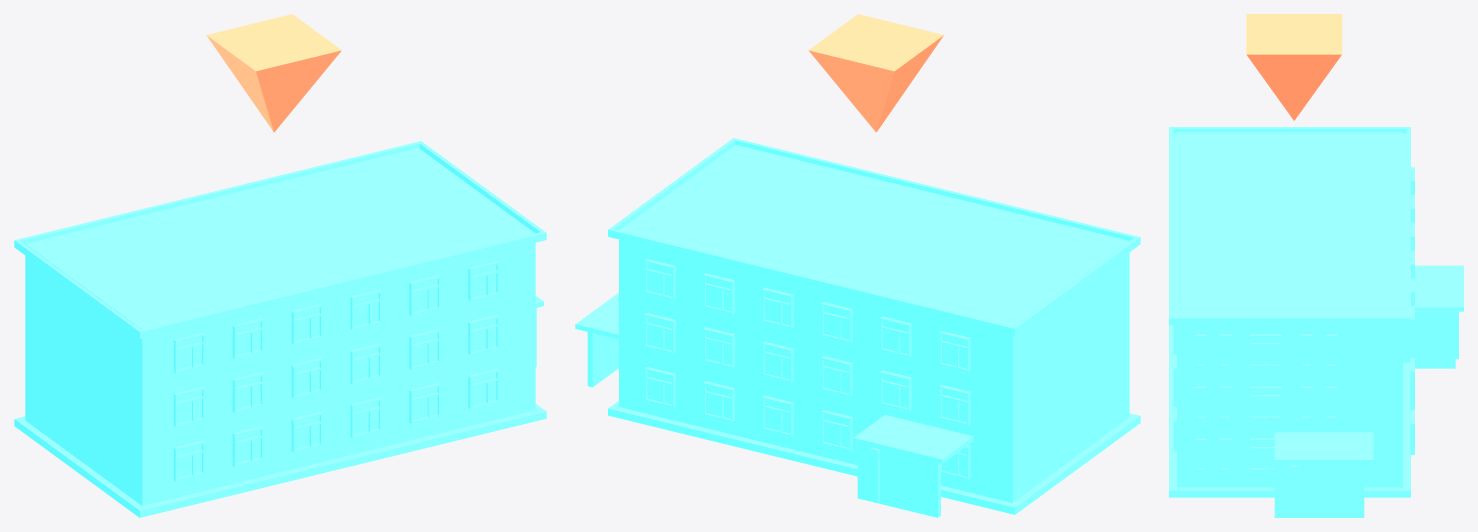
The model's file is build12.gltf.
3 views of the same model, side by side, from view 1: azimuth 30°, elevation 25°; view 2: azimuth 150°, elevation 25°; view 3: azimuth 270°, elevation 25° (orthographic). The views are drawn at different scales.
Parts seen in each view (by area): view 1: subject, fire-mark; view 2: subject, fire-mark; view 3: subject, fire-mark.
Boxes of the visible parts, bbox=[...] form: subject: bbox=[14, 141, 546, 517]; fire-mark: bbox=[206, 14, 341, 132]; subject: bbox=[575, 138, 1140, 517]; fire-mark: bbox=[808, 14, 943, 132]; subject: bbox=[1169, 127, 1463, 517]; fire-mark: bbox=[1246, 14, 1342, 120].
Bounding box in the file's own units: 31.16 × 24.77 × 17.98.
